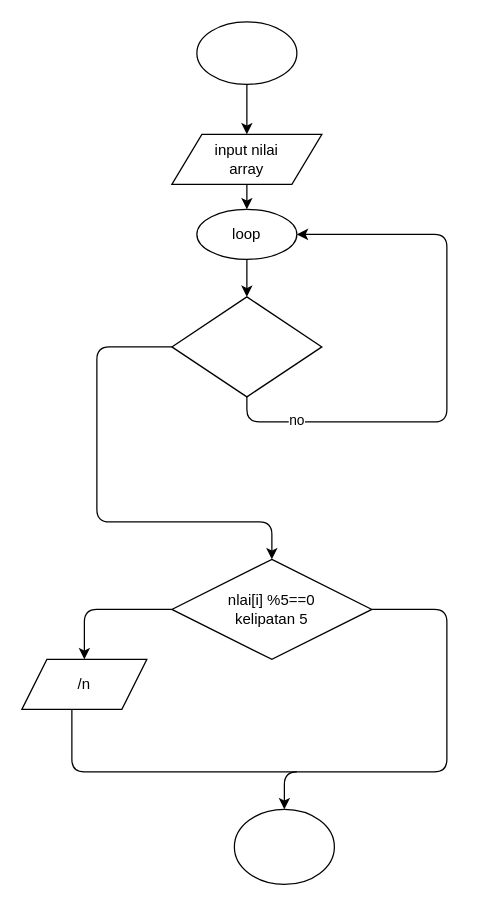
Some shapes in this 479 by 906 pixel diagram are drawn without their labels. Each missing label, with the centre of its shape:
"i=0;i<nilsi.length. i++" belongs at (x=246, y=346).
"START" belongs at (x=246, y=52).
